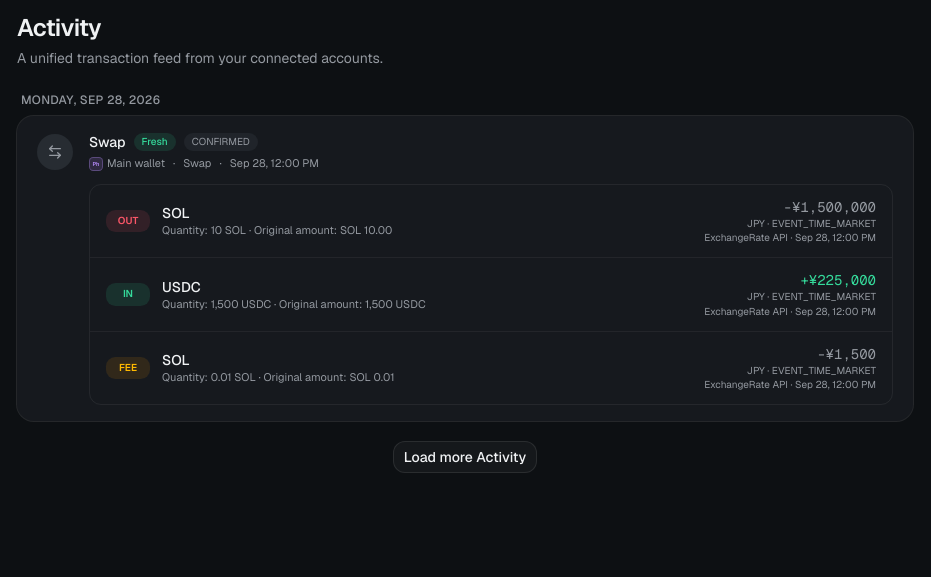
Scenario: ActivityFeed › loads older cursor pages and groups events by their event date
Check: the heading "Swap" is shown, box [89,132,126,152]
Click the button "Load more Activity" at coordinates (465, 457), box [393,441,537,473]
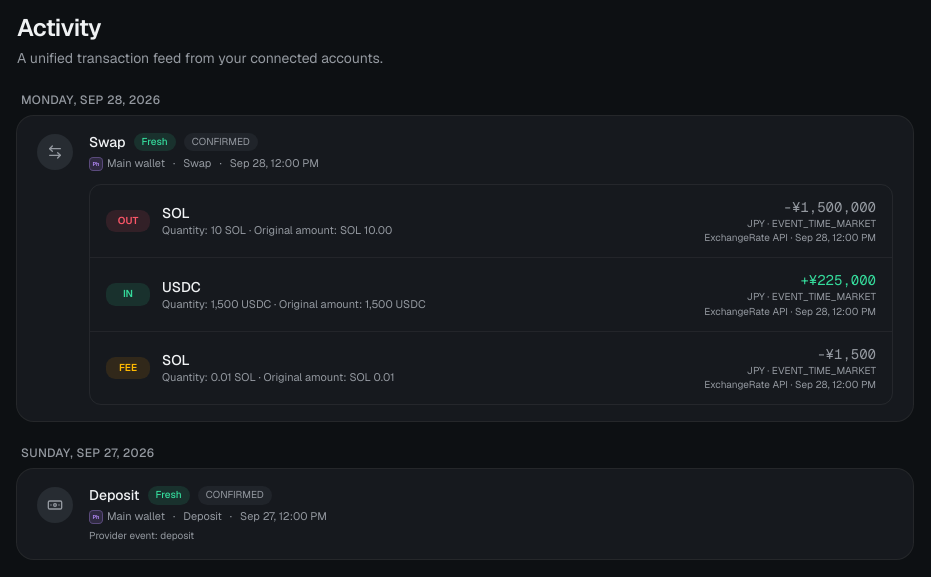
Check: the heading "Deposit" is shown, box [89,485,140,505]
